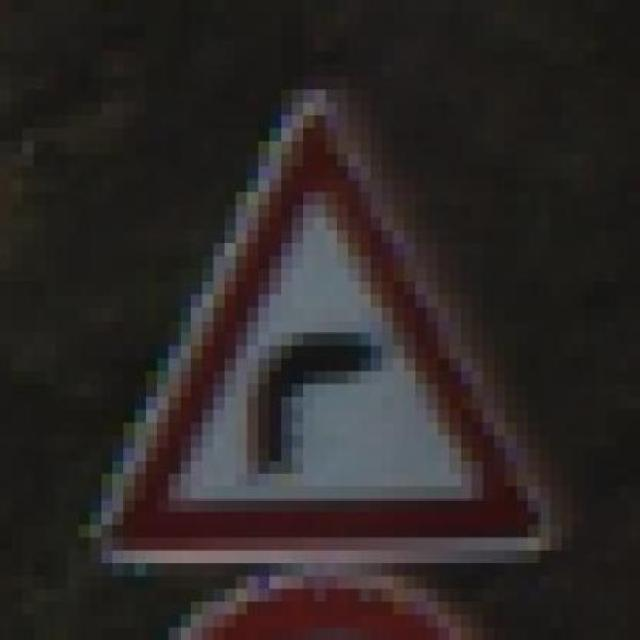Dangerous Rright Curve Ahead: (68, 89, 562, 563)
